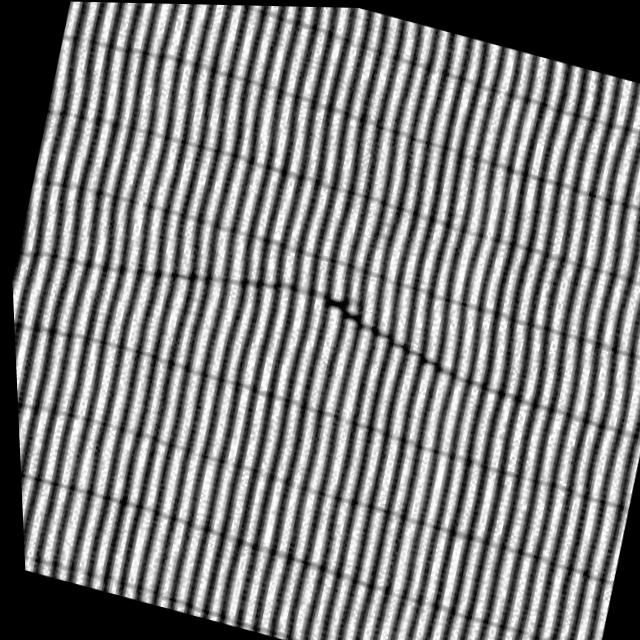Stitch: (156, 227, 520, 405)
